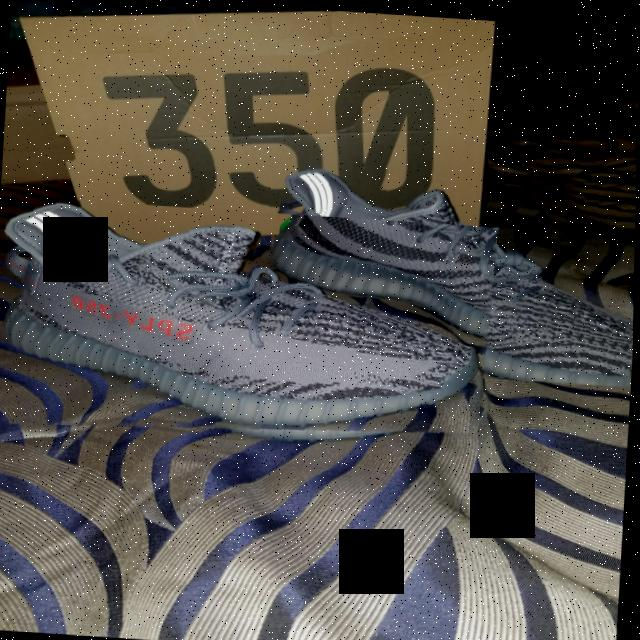shoe: (0, 195, 500, 453), (252, 153, 637, 383)
